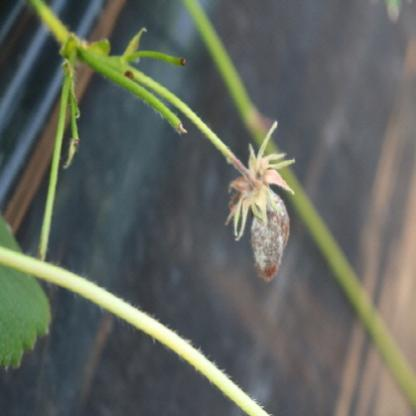Strawberry_Gray_Mold: (223, 122, 297, 282)
